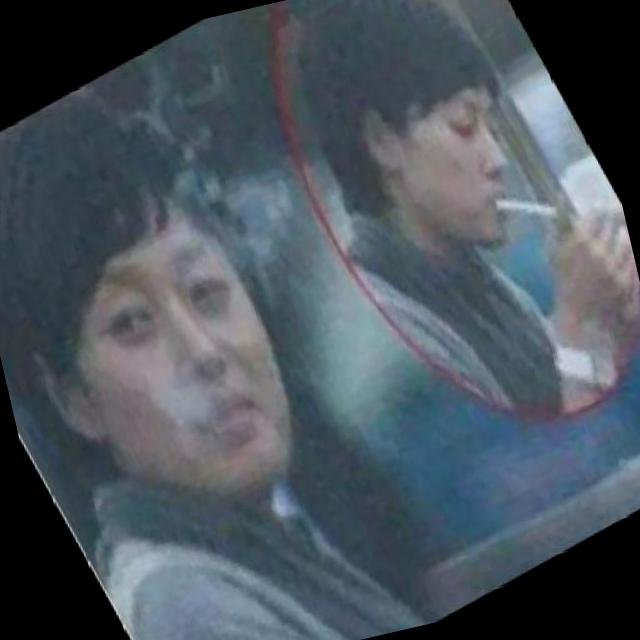cigarette: (484, 167, 568, 249)
